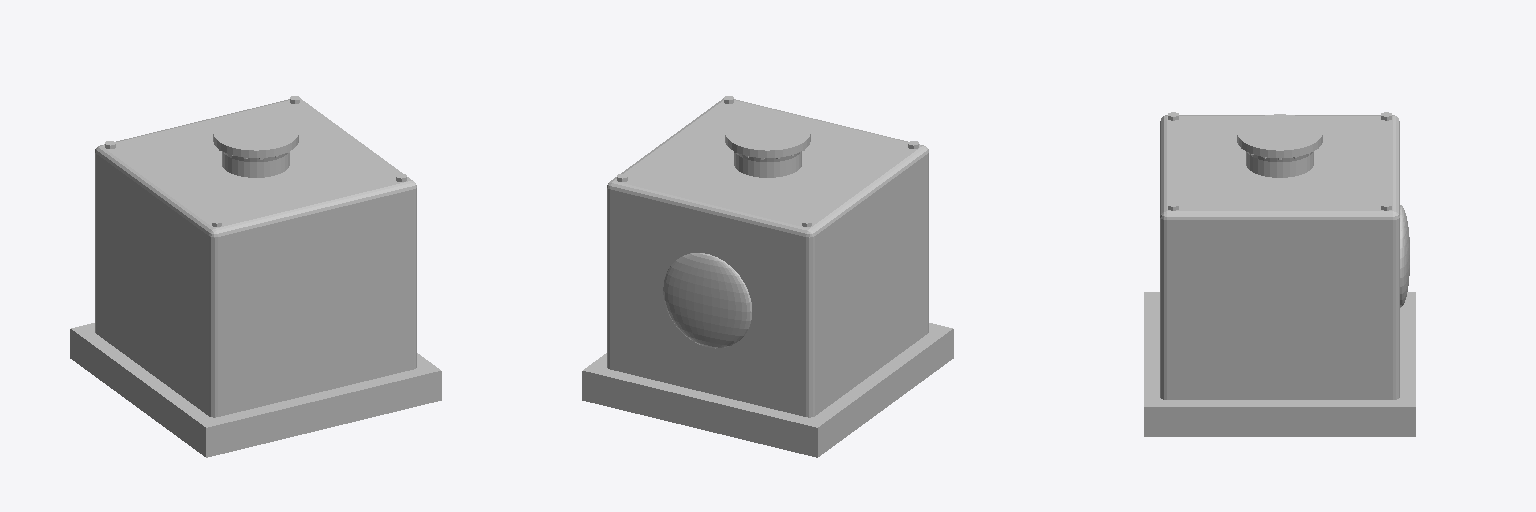
The model's file is pipeworks_pump.obj.
3 views of the same model, side by side, from view 1: azimuth 30°, elevation 25°; view 2: azimuth 150°, elevation 25°; view 3: azimuth 270°, elevation 25° (orthographic).
Visible parts, largest first — view 1: Cube; view 2: Cube; view 3: Cube.
Part boxes in pixels (left/top/right/bottom): Cube: left=70, top=96, right=441, bottom=457; Cube: left=582, top=96, right=953, bottom=457; Cube: left=1144, top=112, right=1415, bottom=436.
Bounding box in the file's own units: 0.9922 × 0.9961 × 0.9922.